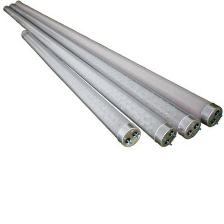light_bulb: (13, 0, 224, 127), (9, 2, 204, 139), (1, 4, 178, 148), (16, 27, 145, 151)
